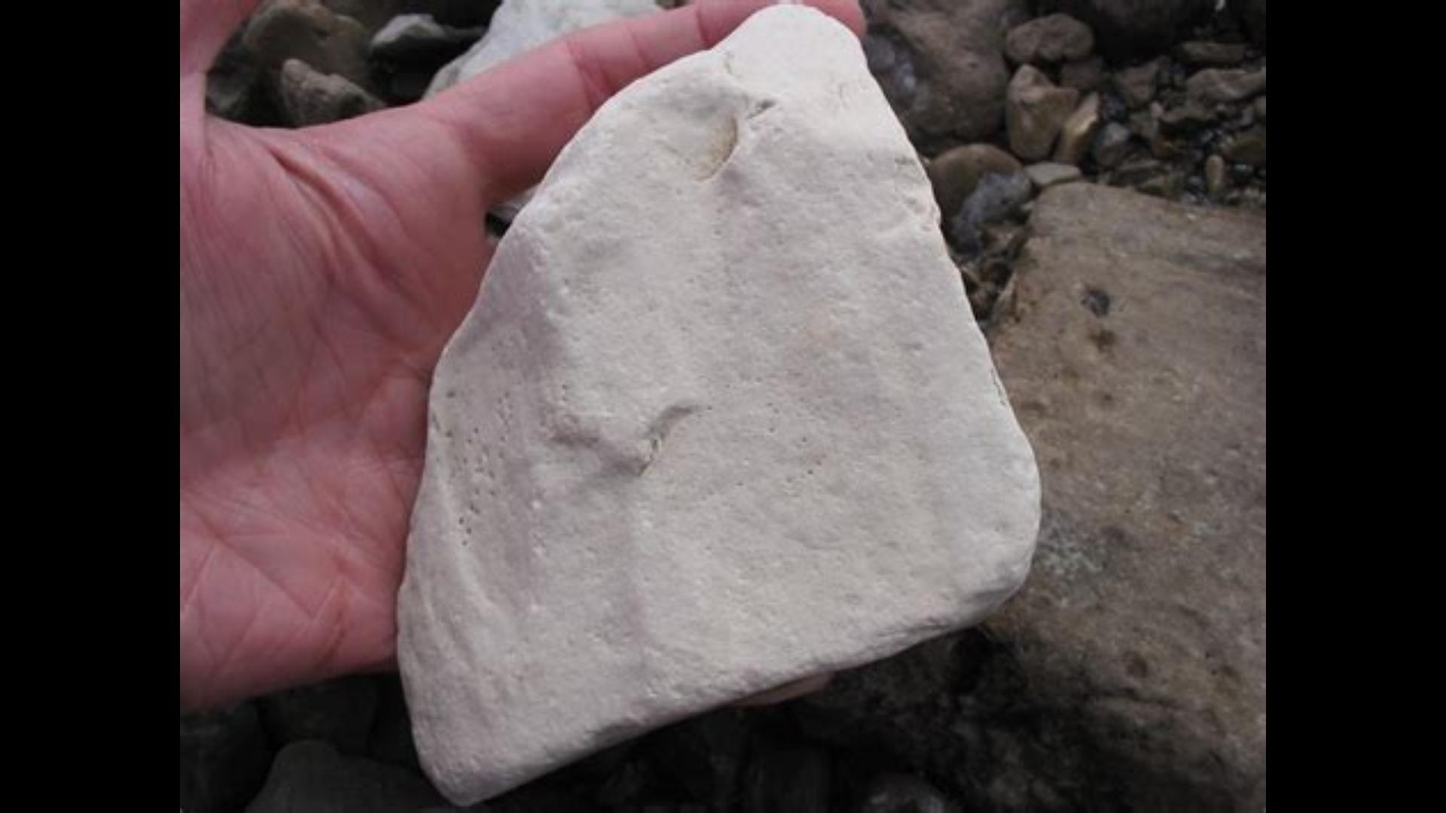rock: (400, 9, 1030, 799)
